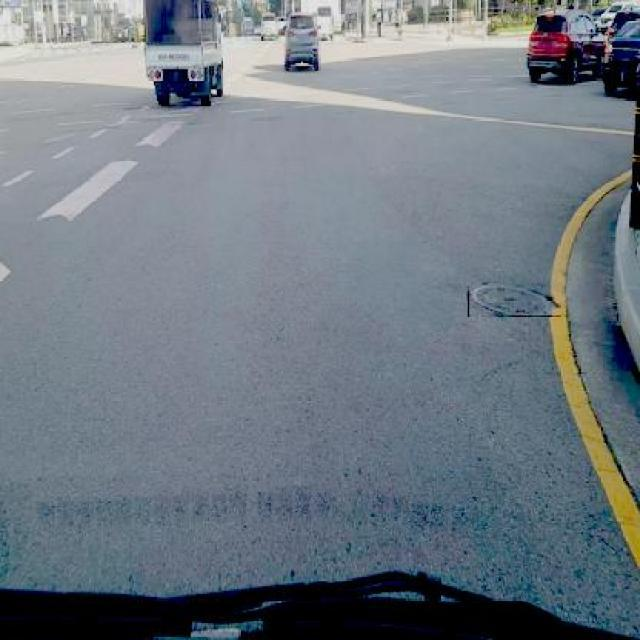Manhole: (468, 284, 560, 318)
